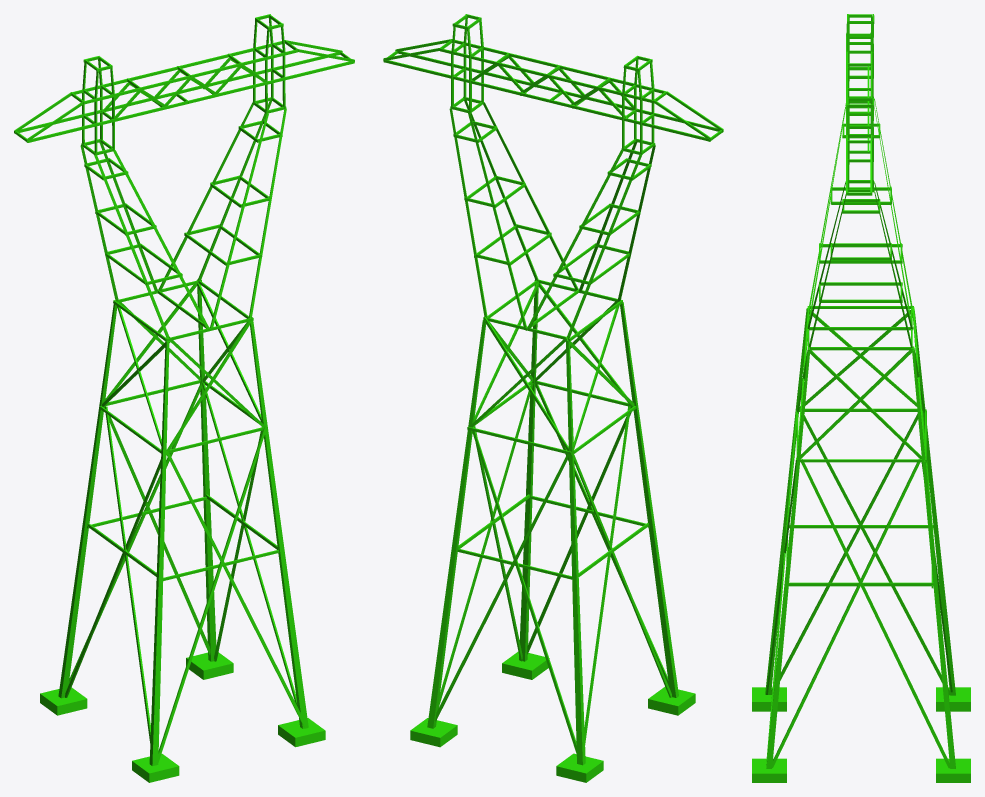
The model's file is Overhead_Power_Line_A_Lod0B.fbx.
The picture shows the model from 3 angles, left to right: view 1: azimuth 30°, elevation 25°; view 2: azimuth 150°, elevation 25°; view 3: azimuth 270°, elevation 25°; orthographic projection.
Visible parts, largest first — view 1: Overhead_Power_Line_A_Lod0B; view 2: Overhead_Power_Line_A_Lod0B; view 3: Overhead_Power_Line_A_Lod0B.
Part boxes in pixels (x1,y1,x2,y2): Overhead_Power_Line_A_Lod0B: (14, 14, 354, 782); Overhead_Power_Line_A_Lod0B: (383, 14, 723, 782); Overhead_Power_Line_A_Lod0B: (752, 14, 970, 782).
Size of the model in its own units: 1882 by 3729 by 1086.
